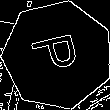P_E: (28, 31, 87, 79)
